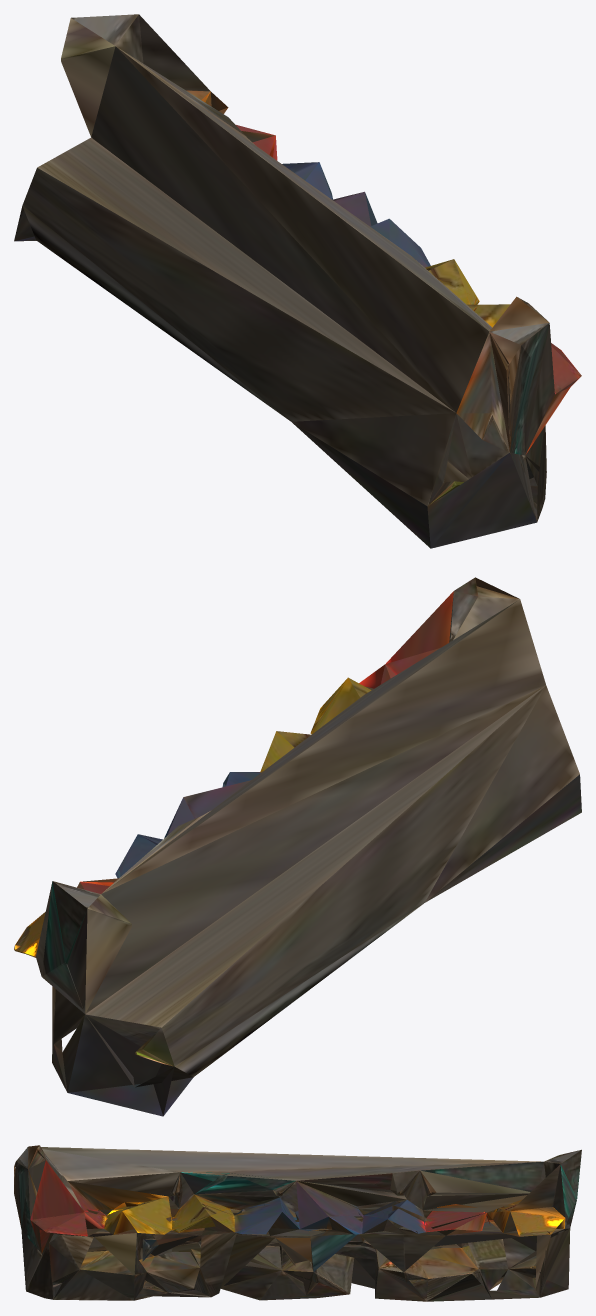
The picture shows the model from 3 angles, top to bottom: view 1: azimuth 30°, elevation 25°; view 2: azimuth 150°, elevation 25°; view 3: azimuth 270°, elevation 25°; orthographic projection. The views are drawn at different scales.
Parts seen in each view (by area): view 1: s03; view 2: s03; view 3: s03.
Part boxes in pixels (bbox=[...]): s03: bbox=[14, 14, 581, 548]; s03: bbox=[14, 577, 581, 1116]; s03: bbox=[14, 1145, 581, 1301].
Size of the model in its own units: 2.92 by 3.43 by 12.26.
1 material, 1 textured.
